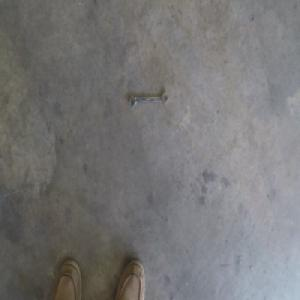Wrench: (128, 91, 168, 108)
